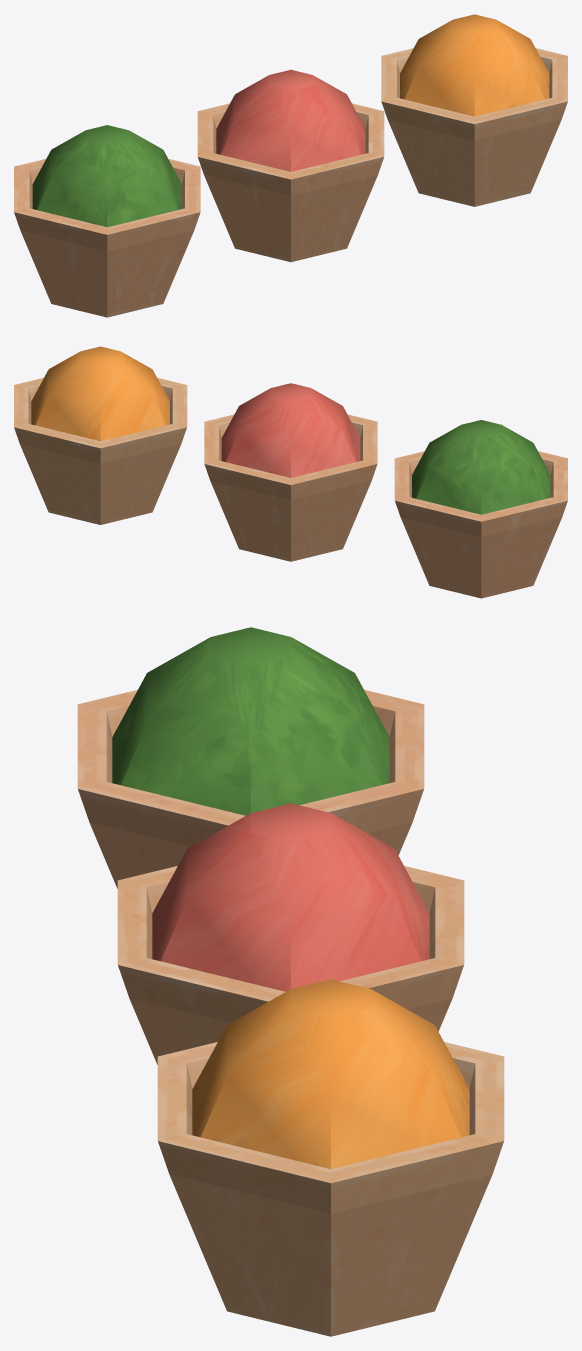
The model's file is baskets_low.fbx.
3 renders of one model, top to bottom at view 1: azimuth 30°, elevation 25°; view 2: azimuth 150°, elevation 25°; view 3: azimuth 270°, elevation 25°, orthographic. The views are drawn at different scales.
Parts seen in each view (by area): view 1: baskets; view 2: baskets; view 3: baskets.
Part boxes in pixels (bbox=[...]): baskets: bbox=[14, 14, 567, 317]; baskets: bbox=[14, 346, 567, 598]; baskets: bbox=[77, 627, 504, 1336].
Size of the model in its own units: 3.7 by 0.95 by 1.28.
1 material, 1 textured.
